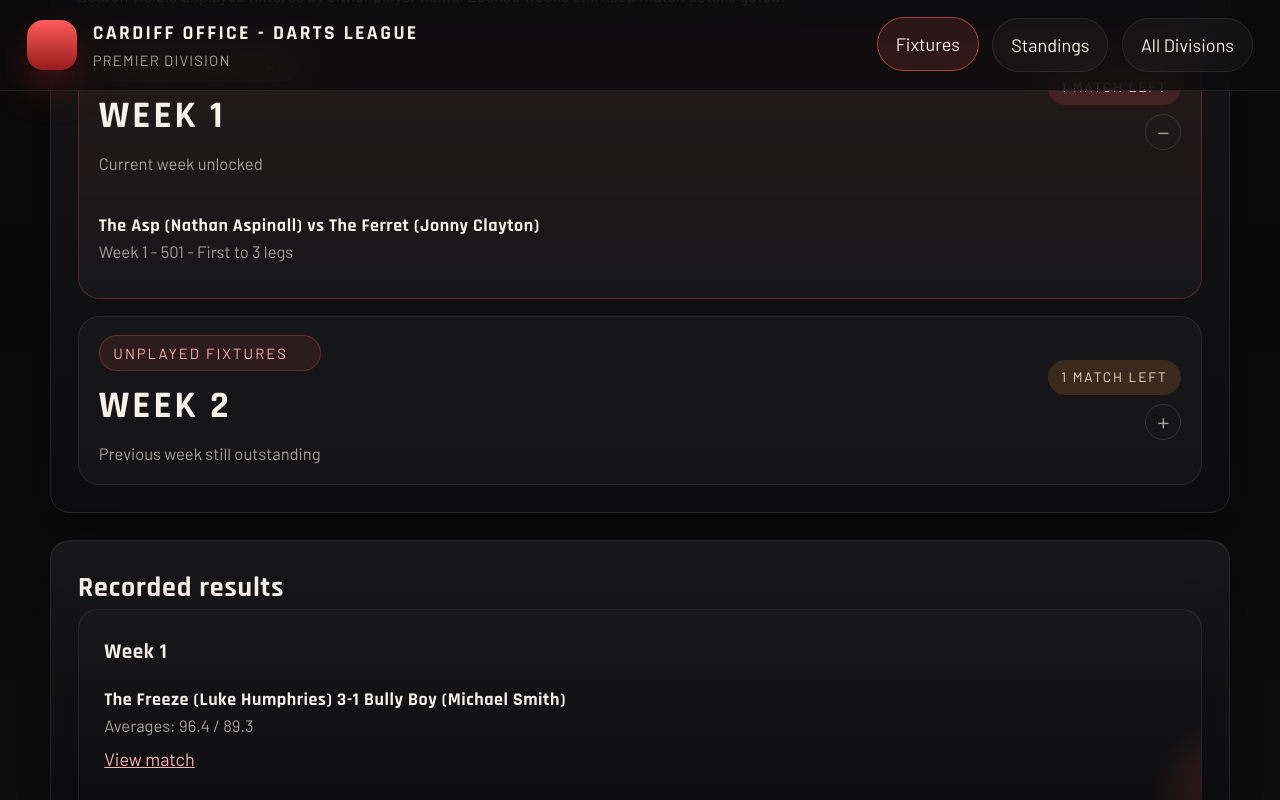
Test: Home page › shows a division fixture board and lets the user switch weeks
The image size is (1280, 800).
(page scrolled)
expect the text "The Asp (Nathan Aspinall) vs The Ferret (Jonny Clayton)" is shown: met, box [99,214,540,237]
expect the text "voltage" is not shown: met
Step 1. Click the button "Week 2" → (640, 400), box [79,317,1201,484]
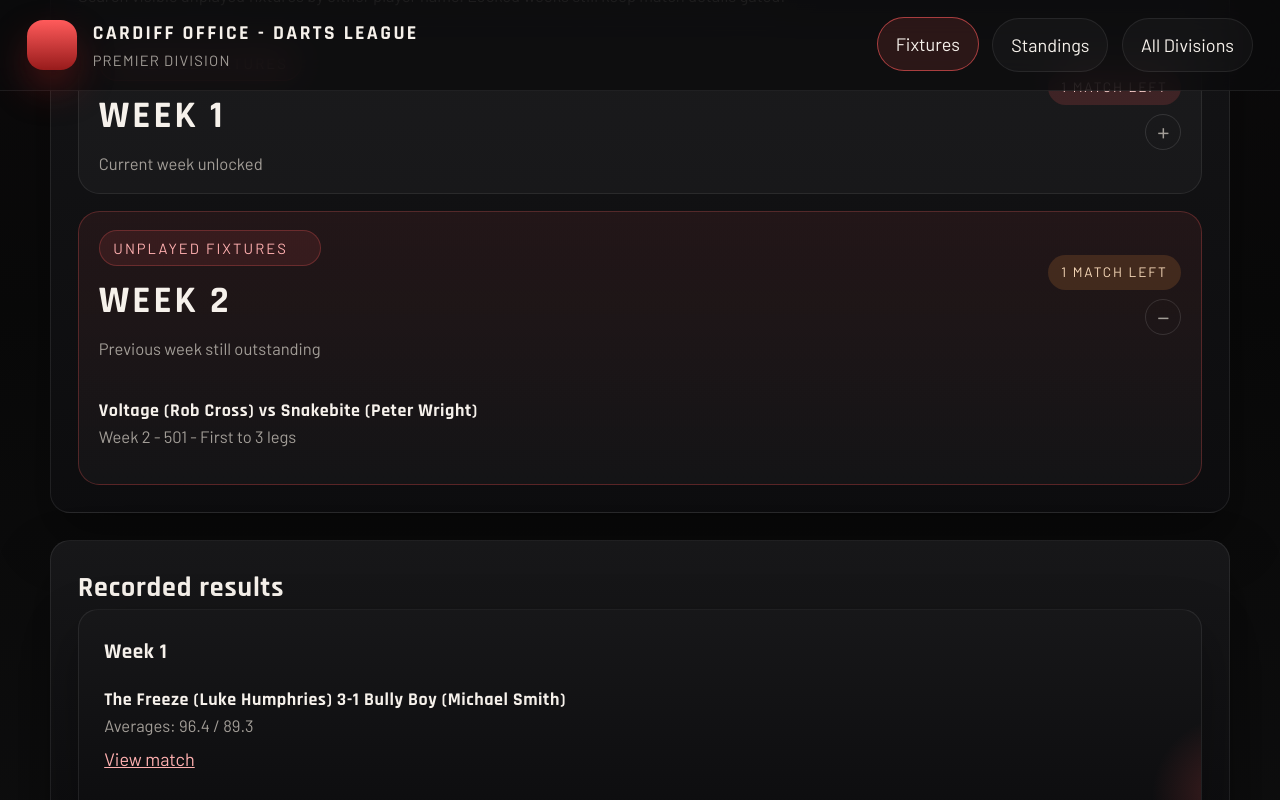
expect the button "Week 2" is expanded: met, box [79,212,1201,378]
expect the text "Voltage (Rob Cross) vs Snakebite (Peter Wright)" is shown: met, box [99,400,478,422]
